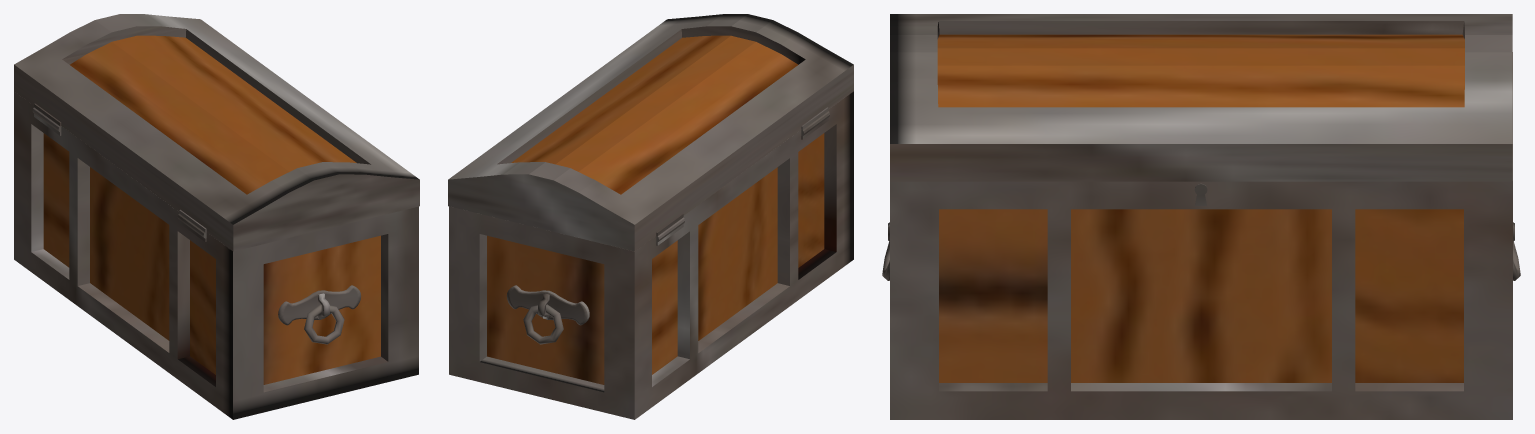
File: chest.glb
3 renders of one model, left to right at view 1: azimuth 30°, elevation 25°; view 2: azimuth 150°, elevation 25°; view 3: azimuth 270°, elevation 25°, orthographic. The views are drawn at different scales.
Parts seen in each view (by area): view 1: ChestMidDown_low; view 2: ChestMidDown_low; view 3: ChestMidDown_low.
Boxes of the visible parts, <box> form: ChestMidDown_low: <box>14,14,419,419</box>; ChestMidDown_low: <box>448,14,853,419</box>; ChestMidDown_low: <box>882,14,1520,419</box>.
Bounding box in the file's own units: 2.36 × 2.61 × 4.84.
Materials: 2 (2 with a texture image).
